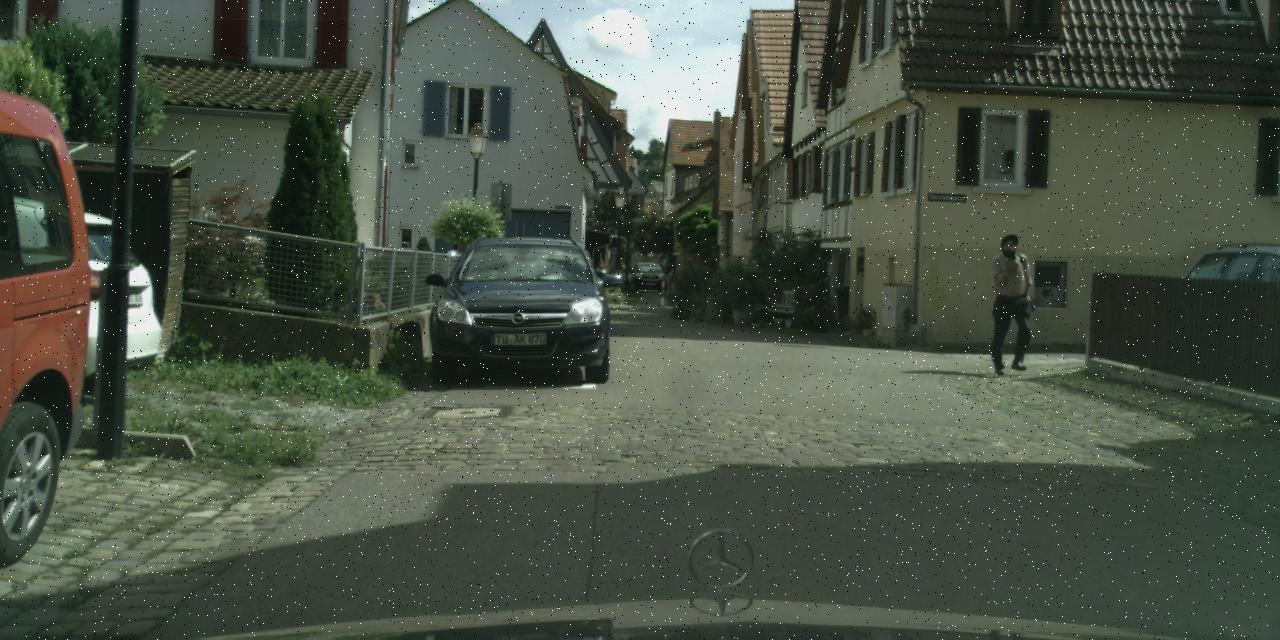ped: (981, 235, 1037, 372)
